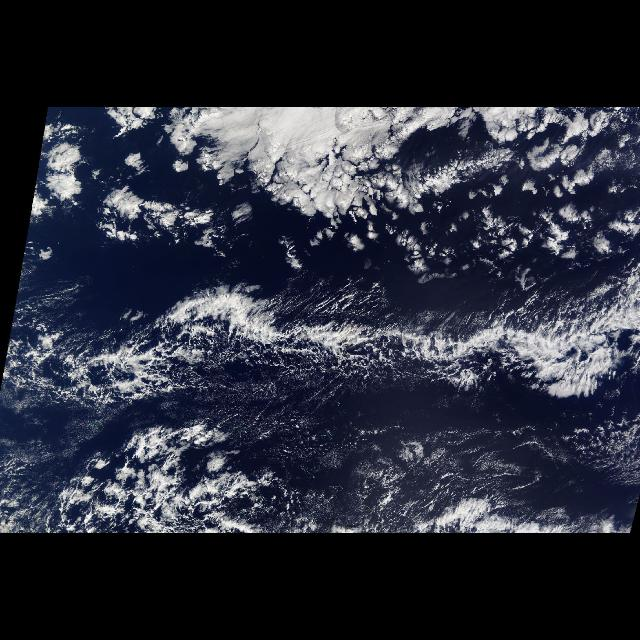Fish: (21, 256, 639, 418)
Flower: (39, 109, 637, 261)
Sugar: (17, 428, 638, 530)
